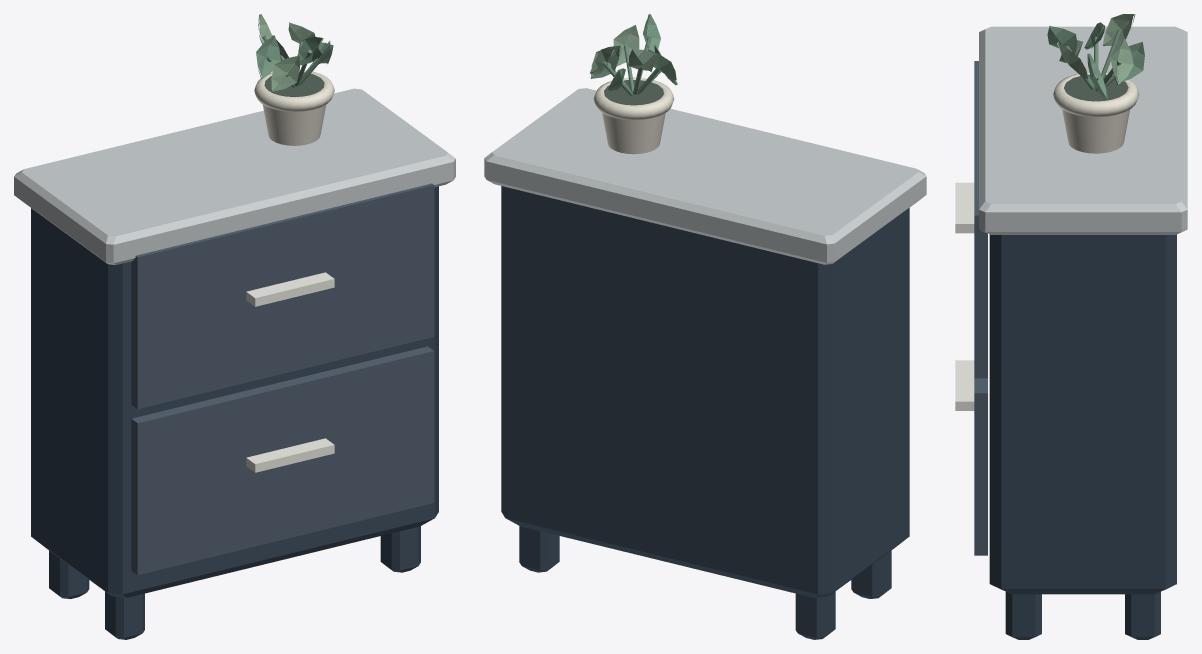
File: v18_interior_shoe_cabinet.glb
3 views of the same model, side by side, from view 1: azimuth 30°, elevation 25°; view 2: azimuth 150°, elevation 25°; view 3: azimuth 270°, elevation 25° (orthographic). The views are drawn at different scales.
Visible parts, largest first — view 1: _MeshInstance3D_4891, _MeshInstance3D_4893, _MeshInstance3D_4889, _MeshInstance3D_4890, _MeshInstance3D_4895, _MeshInstance3D_4886, _MeshInstance3D_4888, _MeshInstance3D_4892, _MeshInstance3D_4894, _MeshInstance3D_4896, _MeshInstance3D_4885, _MeshInstance3D_4908 (+2 smaller); view 2: _MeshInstance3D_4889, _MeshInstance3D_4890, _MeshInstance3D_4895, _MeshInstance3D_4885, _MeshInstance3D_4887, _MeshInstance3D_4896, _MeshInstance3D_4886, _MeshInstance3D_4897; view 3: _MeshInstance3D_4889, _MeshInstance3D_4890, _MeshInstance3D_4893, _MeshInstance3D_4891, _MeshInstance3D_4895, _MeshInstance3D_4896, _MeshInstance3D_4888, _MeshInstance3D_4887, _MeshInstance3D_4894, _MeshInstance3D_4892, _MeshInstance3D_4897, _MeshInstance3D_4920 (+5 smaller).
Part boxes in pixels (bbox=[...]): _MeshInstance3D_4891: bbox=[131, 346, 434, 574]; _MeshInstance3D_4893: bbox=[131, 183, 434, 408]; _MeshInstance3D_4889: bbox=[31, 186, 438, 597]; _MeshInstance3D_4890: bbox=[14, 88, 455, 264]; _MeshInstance3D_4895: bbox=[263, 105, 326, 145]; _MeshInstance3D_4886: bbox=[105, 591, 144, 639]; _MeshInstance3D_4888: bbox=[380, 526, 420, 572]; _MeshInstance3D_4892: bbox=[246, 438, 334, 472]; _MeshInstance3D_4894: bbox=[246, 272, 334, 306]; _MeshInstance3D_4896: bbox=[254, 70, 334, 111]; _MeshInstance3D_4885: bbox=[49, 550, 89, 598]; _MeshInstance3D_4908: bbox=[271, 55, 300, 91]; _MeshInstance3D_4889: bbox=[501, 186, 909, 597]; _MeshInstance3D_4890: bbox=[484, 88, 926, 264]; _MeshInstance3D_4895: bbox=[602, 113, 665, 154]; _MeshInstance3D_4885: bbox=[795, 591, 835, 639]; _MeshInstance3D_4887: bbox=[519, 526, 559, 572]; _MeshInstance3D_4896: bbox=[593, 77, 674, 119]; _MeshInstance3D_4886: bbox=[851, 550, 891, 598]; _MeshInstance3D_4897: bbox=[604, 80, 663, 105]; _MeshInstance3D_4889: bbox=[989, 234, 1176, 594]; _MeshInstance3D_4890: bbox=[979, 26, 1187, 234]; _MeshInstance3D_4893: bbox=[974, 61, 987, 378]; _MeshInstance3D_4891: bbox=[974, 378, 987, 555]; _MeshInstance3D_4895: bbox=[1062, 109, 1129, 153]; _MeshInstance3D_4896: bbox=[1053, 72, 1139, 117]; _MeshInstance3D_4888: bbox=[1005, 592, 1041, 639]; _MeshInstance3D_4887: bbox=[1125, 591, 1160, 639]; _MeshInstance3D_4894: bbox=[955, 182, 974, 233]; _MeshInstance3D_4892: bbox=[955, 360, 974, 410]; _MeshInstance3D_4897: bbox=[1064, 74, 1128, 101]; _MeshInstance3D_4920: bbox=[1110, 37, 1133, 84].
Size of the model in its own units: 0.7406 by 1.09 by 0.3984.
